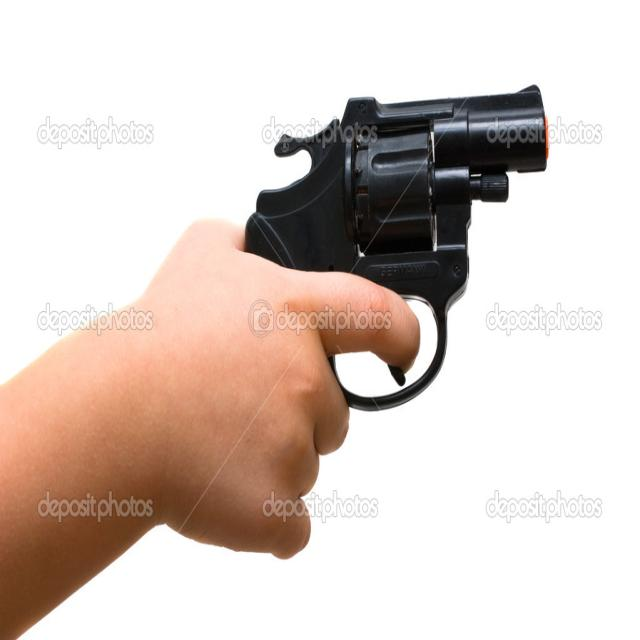gun: (205, 72, 556, 559)
